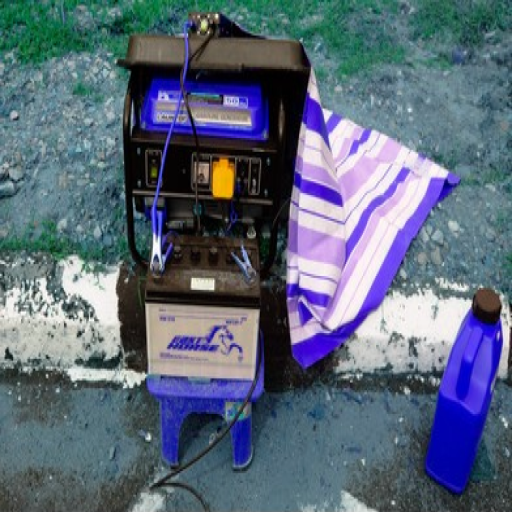portable_generator: (124, 67, 291, 271)
